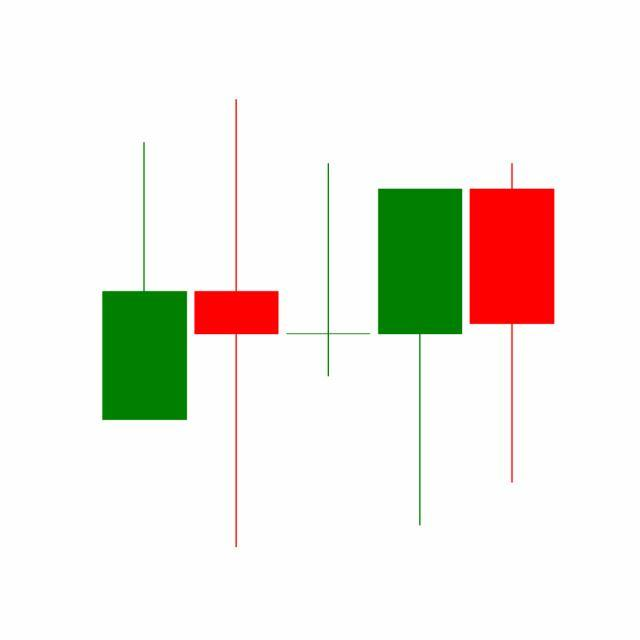Hammer: (374, 186, 468, 530)
